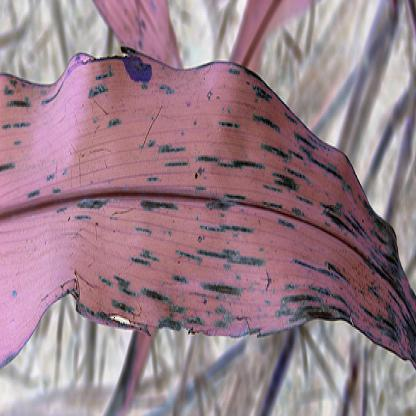corn gray leaf spot: (1, 53, 415, 405)
